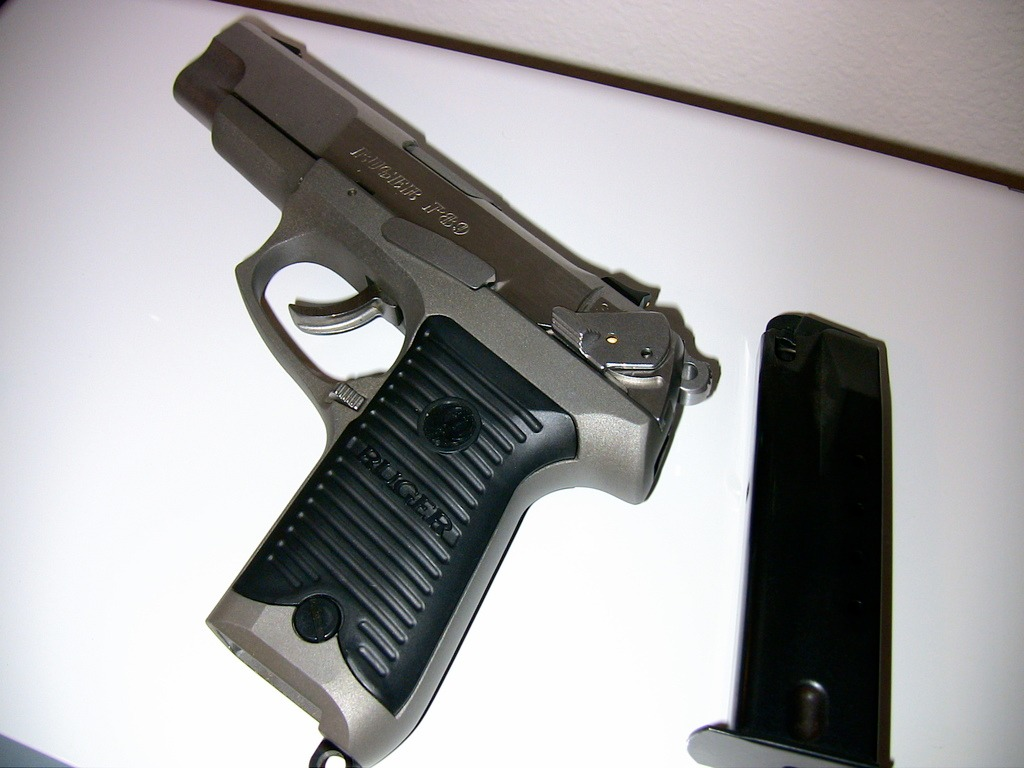gun: (124, 18, 695, 744)
